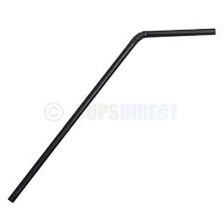drinking_straw: (3, 20, 220, 207)
